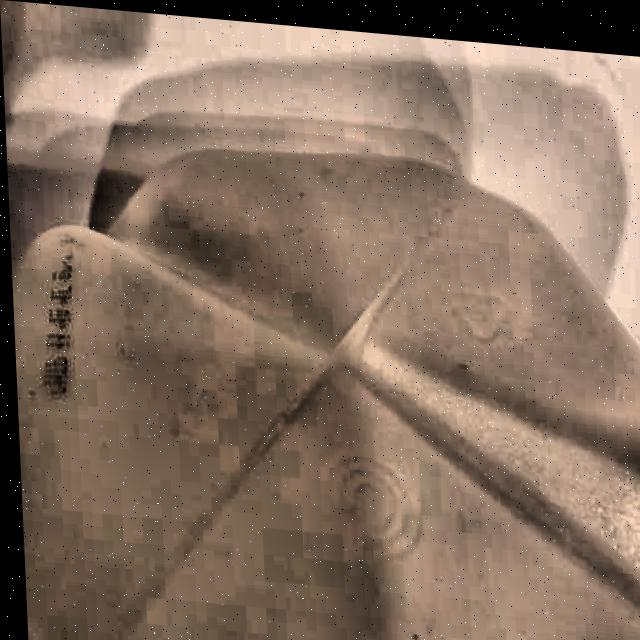plastic: (5, 121, 640, 640)
